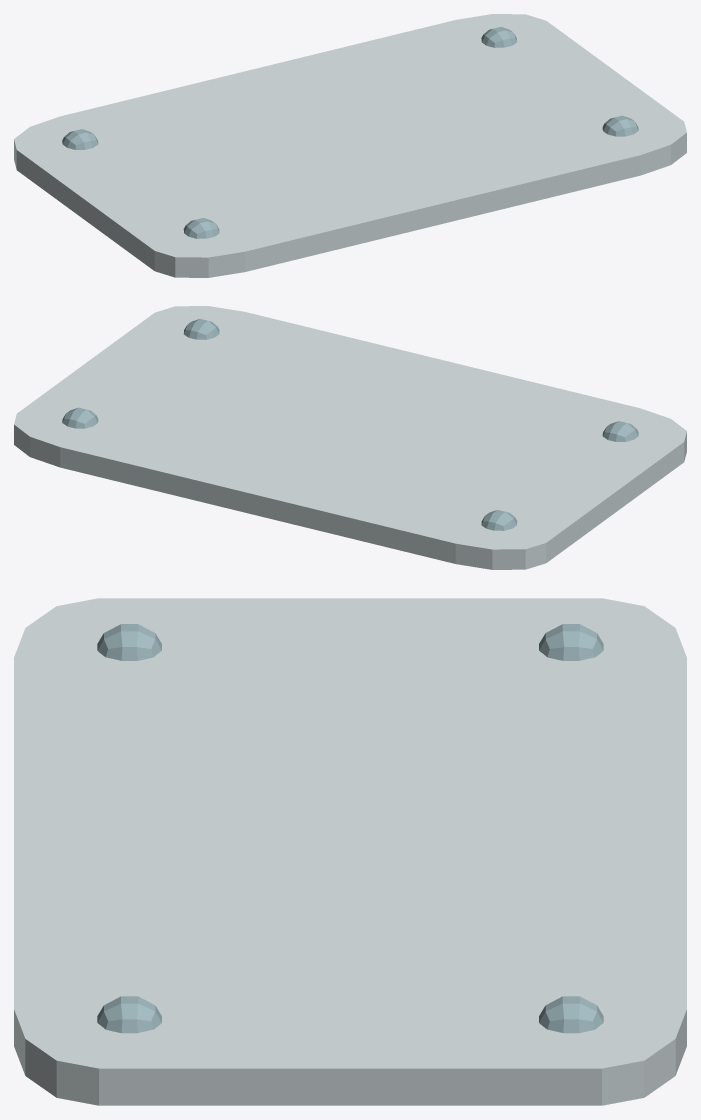
The model's file is Metallic part 1.fbx.
3 renders of one model, top to bottom at view 1: azimuth 30°, elevation 25°; view 2: azimuth 150°, elevation 25°; view 3: azimuth 270°, elevation 25°, orthographic. The views are drawn at different scales.
Visible parts, largest first — view 1: Metallic part 1; view 2: Metallic part 1; view 3: Metallic part 1.
Boxes of the visible parts, x1=… form: Metallic part 1: x1=14, y1=14, x2=686, y2=277; Metallic part 1: x1=14, y1=306, x2=686, y2=569; Metallic part 1: x1=14, y1=598, x2=686, y2=1105.
Bounding box in the file's own units: 14.65 × 0.8244 × 8.86.
